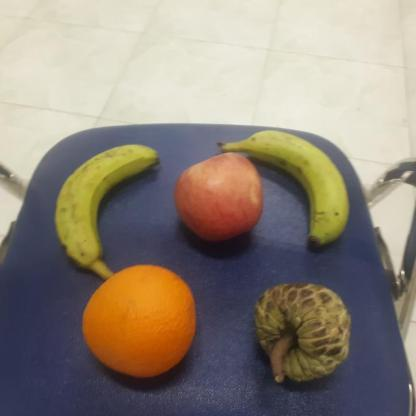annona: (254, 281, 354, 383)
apple: (172, 152, 264, 244)
banana: (221, 131, 350, 249), (56, 144, 160, 266)
orange: (82, 266, 196, 376)
